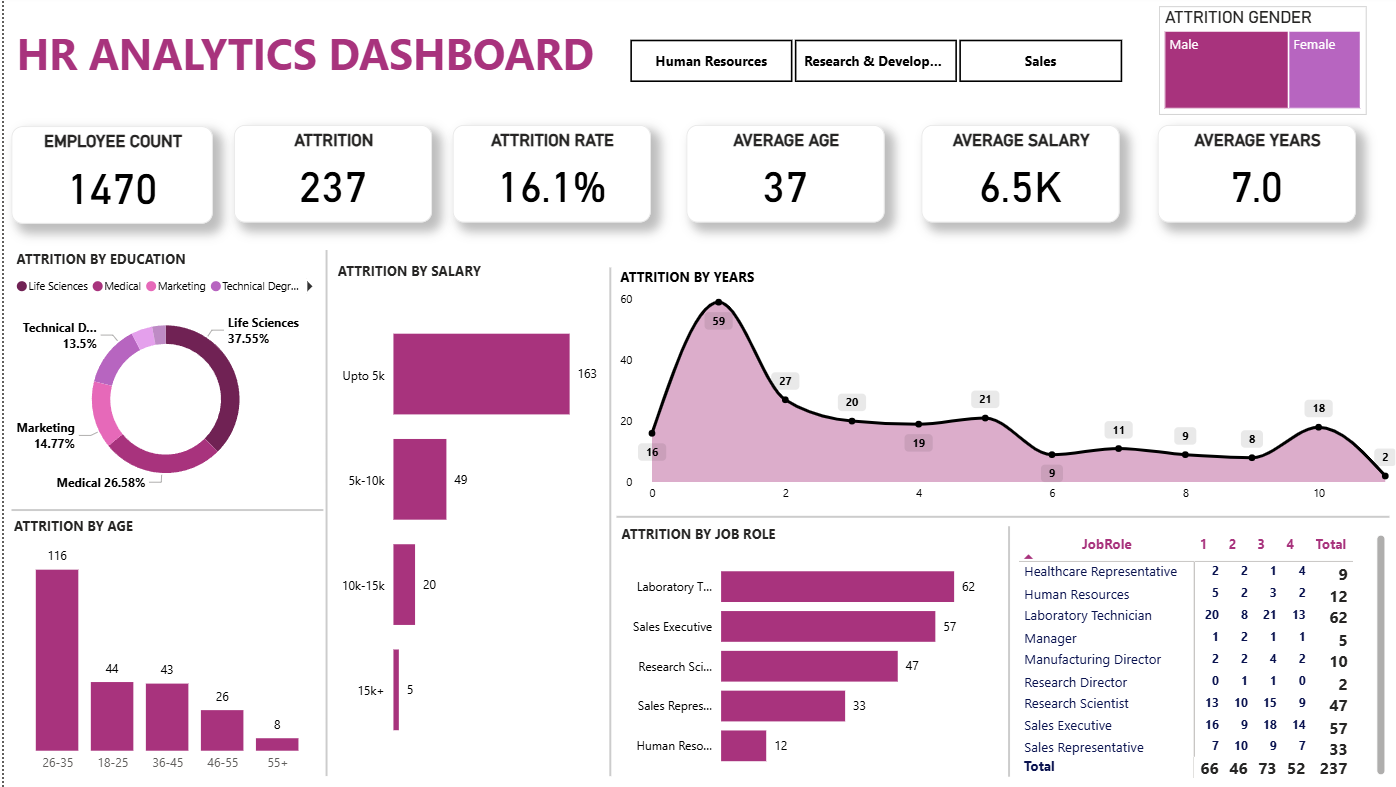

The dashboard page shown, as its layout file describes it:
{"tool":"powerbi","page":{"name":"Page 1","canvas":[1400,800],"ordinal":0},"visuals":[{"type":"textbox","box":[7.9,23.7,599.6,83.6],"z":0},{"type":"card","title":"EMPLOYEE COUNT","fields":{"Values":["CountNonNull(HR_Analytics.EmpID)"]},"box":[7.9,131,202,97.8],"z":1000},{"type":"card","title":"AVERAGE SALARY","fields":{"Values":["Avg(HR_Analytics.MonthlyIncome)"]},"box":[919.8,130.4,198.4,97.8],"z":2000},{"type":"card","title":"AVERAGE YEARS","fields":{"Values":["Avg(HR_Analytics.YearsAtCompany)"]},"box":[1156.3,130.4,198.4,97.8],"z":3000},{"type":"card","title":"ATTRITION ","fields":{"Values":["Sum(HR_Analytics.COUNTATTRITION)"]},"box":[231,130.4,198.4,97.8],"z":4000},{"type":"card","title":"ATTRITION RATE","fields":{"Values":["HR_Analytics.AttritionRate"]},"box":[449.7,130.4,198.4,97.8],"z":5000},{"type":"card","title":"AVERAGE AGE","fields":{"Values":["Avg(HR_Analytics.Age)"]},"box":[683.4,130.4,198.4,97.8],"z":6000},{"type":"barChart","title":"ATTRITION BY JOB ROLE","fields":{"Y":["Sum(HR_Analytics.COUNTATTRITION)"],"Category":["HR_Analytics.JobRole"]},"box":[613.2,531.4,367.9,258.9],"z":7000},{"type":"shape","box":[317.2,255.6,12.6,527.1],"z":8000},{"type":"columnChart","title":"ATTRITION BY AGE","fields":{"Category":["HR_Analytics.AgeGroup"],"Y":["Sum(HR_Analytics.COUNTATTRITION)"]},"box":[4.7,522.3,318.8,265.1],"z":9000},{"type":"shape","box":[613.2,515.9,774.8,13.6],"z":10000},{"type":"shape","box":[601.2,273,12.6,509.7],"z":11000},{"type":"donutChart","title":"ATTRITION BY EDUCATION","fields":{"Y":["Sum(HR_Analytics.COUNTATTRITION)"],"Category":["HR_Analytics.EducationField"]},"box":[7.9,255.6,309.3,254.1],"z":12000},{"type":"shape","box":[7.9,509.7,312.4,12.6],"z":13000},{"type":"lineChart","title":"ATTRITION BY YEARS","fields":{"Y":["Sum(HR_Analytics.COUNTATTRITION)"],"Category":["HR_Analytics.YearsAtCompany"]},"box":[612.8,273.1,786.7,243.2],"z":14000},{"type":"barChart","title":"ATTRITION BY SALARY","fields":{"Y":["Sum(HR_Analytics.COUNTATTRITION)"],"Category":["HR_Analytics.SalarySlab"]},"box":[329.8,266.7,271.4,520.7],"z":15000},{"type":"treemap","title":"ATTRITION GENDER","fields":{"Group":["HR_Analytics.Gender"],"Values":["Sum(HR_Analytics.COUNTATTRITION)"]},"box":[1156.7,11,208.3,108.9],"z":16000},{"type":"slicer","fields":{"Values":["HR_Analytics.Department"]},"box":[601.2,37.9,542.8,56.8],"z":17000},{"type":"pivotTable","fields":{"Rows":["HR_Analytics.JobRole"],"Columns":["HR_Analytics.JobSatisfaction"],"Values":["Sum(HR_Analytics.COUNTATTRITION)"]},"box":[1011.5,536.5,377.1,254.1],"z":18000},{"type":"shape","box":[1000.5,531.8,12.6,250.9],"z":19000}]}

Visuals, with their boxes in screenshot pixels (x1, y1, x2, y2), scaled from the page's 1400x800 canvas onto the 1396x787 screenshot:
textbox: [left=8, top=23, right=606, bottom=106]
"EMPLOYEE COUNT" card: [left=8, top=129, right=209, bottom=225]
"AVERAGE SALARY" card: [left=917, top=128, right=1115, bottom=224]
"AVERAGE YEARS" card: [left=1153, top=128, right=1351, bottom=224]
"ATTRITION " card: [left=230, top=128, right=428, bottom=224]
"ATTRITION RATE" card: [left=448, top=128, right=646, bottom=224]
"AVERAGE AGE" card: [left=681, top=128, right=879, bottom=224]
"ATTRITION BY JOB ROLE" barChart: [left=611, top=523, right=978, bottom=777]
shape: [left=316, top=251, right=329, bottom=770]
"ATTRITION BY AGE" columnChart: [left=5, top=514, right=323, bottom=775]
shape: [left=611, top=508, right=1384, bottom=521]
shape: [left=599, top=269, right=612, bottom=770]
"ATTRITION BY EDUCATION" donutChart: [left=8, top=251, right=316, bottom=501]
shape: [left=8, top=501, right=319, bottom=514]
"ATTRITION BY YEARS" lineChart: [left=611, top=269, right=1395, bottom=508]
"ATTRITION BY SALARY" barChart: [left=329, top=262, right=599, bottom=775]
"ATTRITION GENDER" treemap: [left=1153, top=11, right=1361, bottom=118]
slicer - HR_Analytics.Department: [left=599, top=37, right=1141, bottom=93]
pivotTable - HR_Analytics.JobRole x HR_Analytics.JobSatisfaction: [left=1009, top=528, right=1385, bottom=778]
shape: [left=998, top=523, right=1010, bottom=770]
